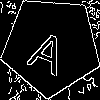A: (26, 21, 74, 77)
